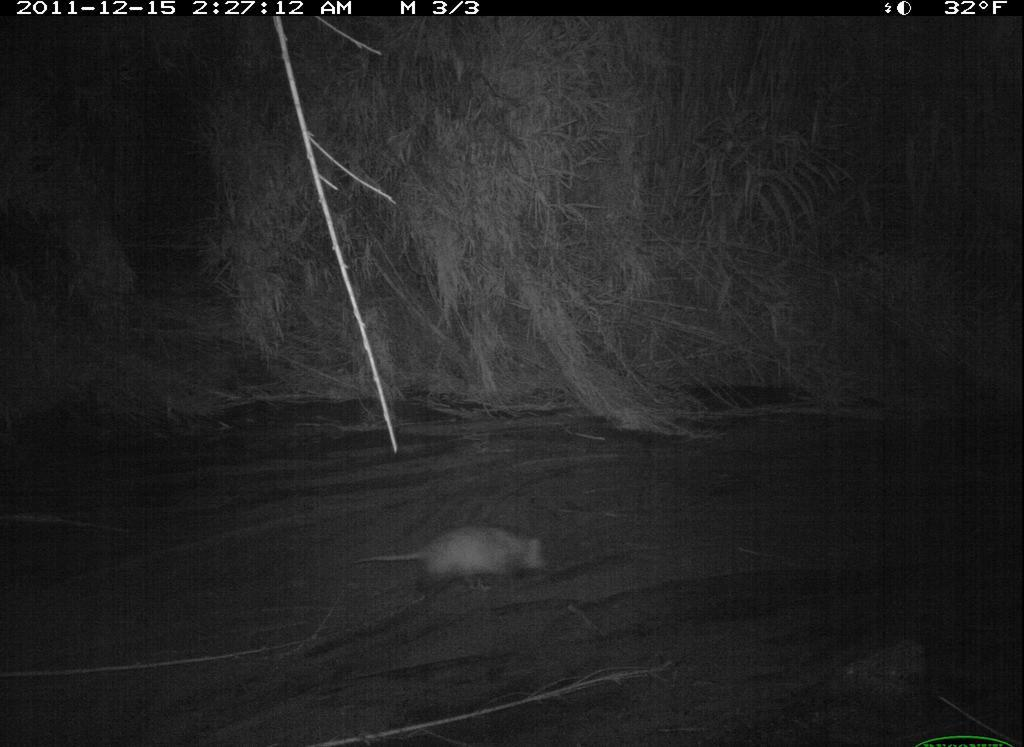opossum: (313, 520, 550, 612)
